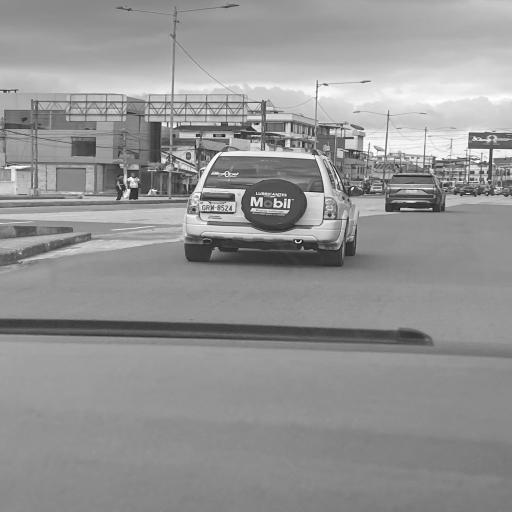license_plate: (216, 204, 221, 212), (221, 204, 225, 212), (201, 205, 206, 211), (210, 205, 215, 211), (206, 205, 210, 211), (225, 204, 228, 212), (228, 205, 232, 211)
